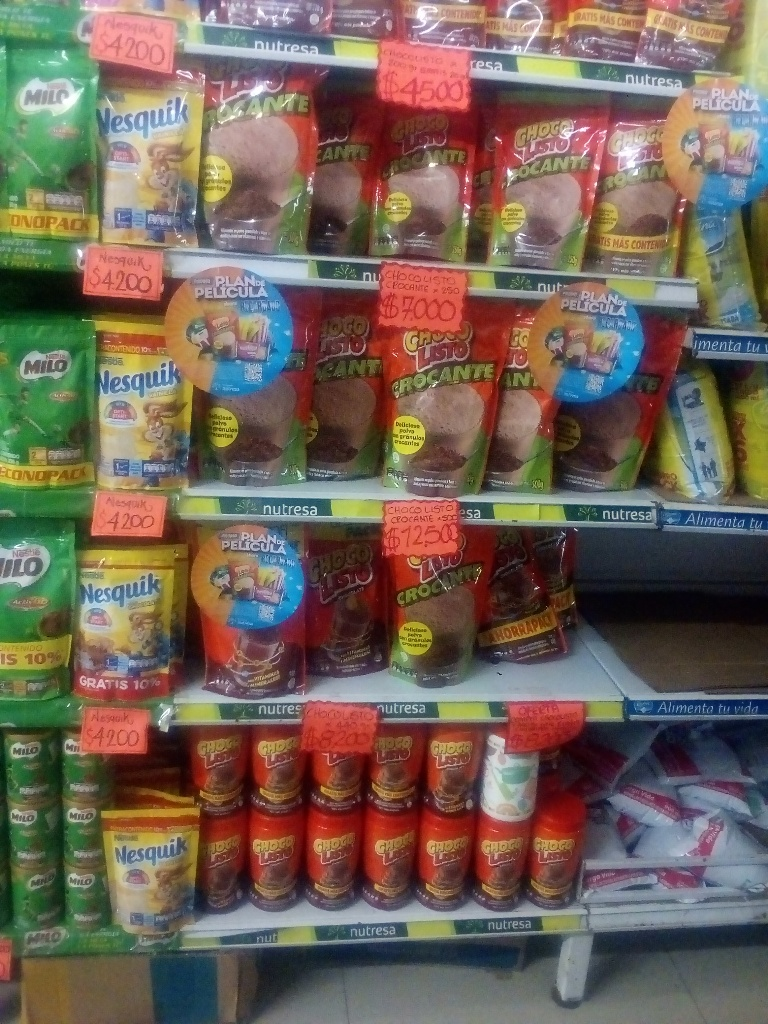COL0170102DYP25000: (376, 91, 470, 258)
COL0170102DYP50000: (207, 58, 314, 254)
COL0170103DYP20000: (191, 524, 299, 694)
COL0170103DYP36000: (296, 523, 389, 687)
COL0170103DYP40000: (473, 532, 572, 674)
COL0170103TRR30000: (431, 733, 479, 814)
COL0170203DYP25000: (1, 40, 100, 239)
COL0170203DYP50000: (0, 519, 70, 701)
COL0170203LAT20000: (4, 731, 56, 796)
